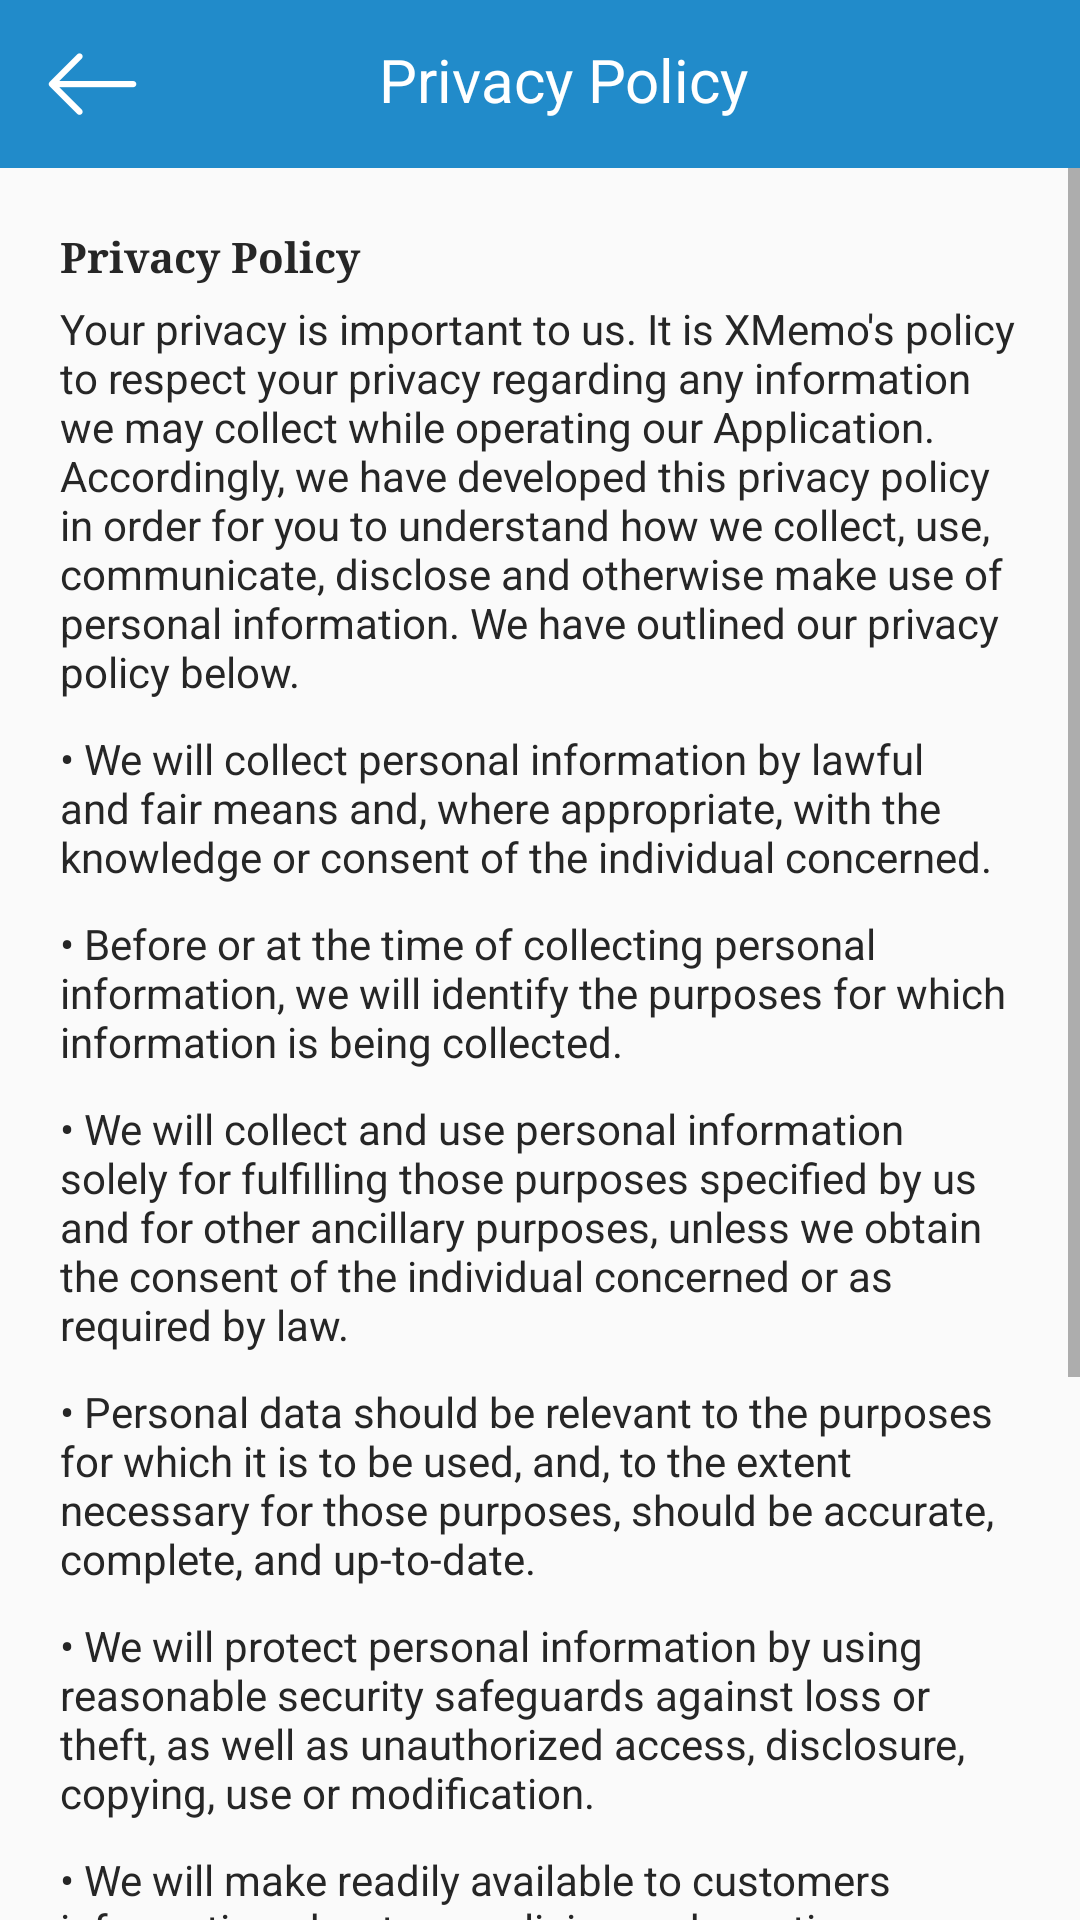

Icon bounding boxes for this 1080 x 1920 phone screenshot, format BBox(x1, y1, x2, y2):
back arrow: BBox(48, 53, 137, 115)
